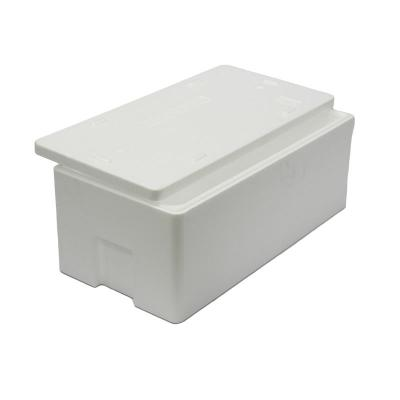Boxes: (35, 67, 354, 322)
